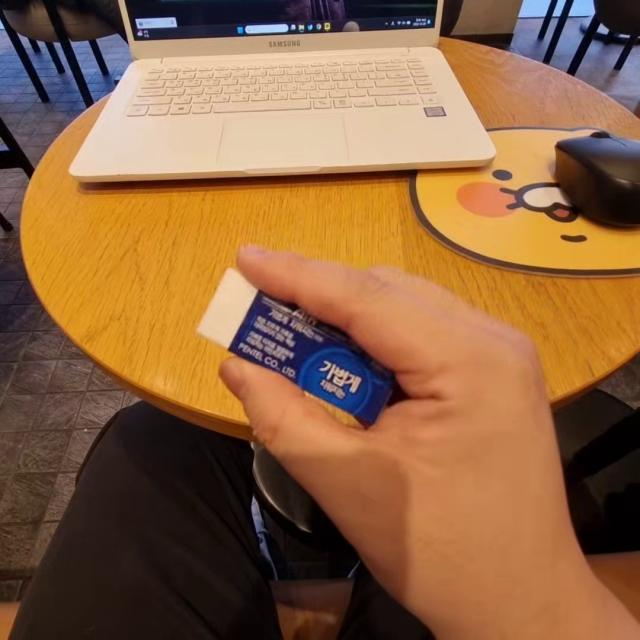eraser: (196, 259, 385, 414)
grab_eraser: (197, 228, 577, 640)
mouse: (542, 121, 640, 232)
